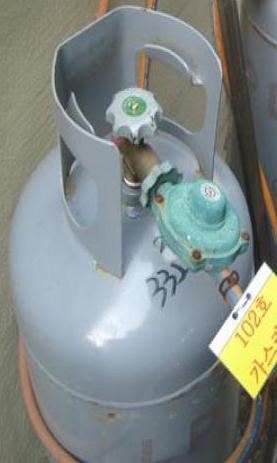cylinder: (1, 1, 277, 463)
